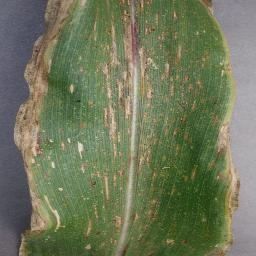Gray_Leaf_Spot: (20, 30, 60, 71), (13, 104, 48, 150), (225, 176, 244, 249), (113, 57, 134, 122), (21, 192, 51, 233), (18, 146, 44, 193), (216, 120, 236, 177), (222, 62, 242, 117), (17, 72, 49, 106), (103, 121, 125, 168), (43, 0, 72, 33), (139, 49, 156, 102), (114, 0, 151, 24), (120, 24, 147, 56), (212, 24, 230, 63), (137, 140, 153, 183), (13, 232, 37, 256), (139, 103, 154, 140), (163, 63, 180, 94), (164, 39, 183, 66), (142, 197, 163, 221), (197, 0, 220, 21), (50, 206, 66, 236), (201, 218, 218, 242), (108, 33, 120, 66), (97, 80, 113, 103), (195, 44, 207, 72), (114, 160, 128, 184), (149, 10, 164, 32), (178, 72, 193, 94), (90, 11, 99, 47), (93, 61, 111, 79), (98, 170, 107, 204), (73, 62, 92, 78), (203, 244, 227, 256), (195, 69, 206, 95), (155, 30, 167, 53), (113, 211, 126, 232), (45, 153, 57, 175), (78, 242, 98, 255), (76, 139, 88, 160), (205, 153, 217, 173), (55, 136, 69, 153), (127, 125, 132, 171), (84, 220, 93, 245), (147, 166, 164, 179), (47, 135, 56, 159), (162, 112, 170, 138), (195, 26, 207, 43), (137, 223, 148, 241), (167, 238, 183, 250), (122, 236, 132, 255), (88, 169, 99, 186), (184, 133, 197, 147), (91, 207, 105, 220), (166, 180, 178, 195), (70, 0, 86, 11), (172, 140, 181, 159), (172, 7, 182, 24), (171, 126, 183, 140), (81, 30, 93, 44), (54, 181, 66, 195), (105, 22, 120, 33), (106, 236, 117, 251), (104, 104, 112, 124), (180, 171, 191, 185), (78, 159, 87, 176), (164, 92, 173, 108), (189, 164, 197, 182), (77, 116, 86, 132), (82, 191, 93, 203), (211, 192, 222, 204), (211, 107, 219, 123), (130, 208, 138, 224), (66, 80, 74, 96), (96, 129, 102, 150), (169, 30, 181, 40), (43, 177, 56, 186), (183, 233, 189, 252), (94, 225, 101, 241), (103, 2, 114, 12), (64, 134, 74, 145), (181, 112, 187, 129), (104, 45, 111, 58), (191, 100, 197, 115), (214, 97, 223, 107), (55, 128, 66, 136), (87, 100, 95, 109), (76, 55, 87, 61), (149, 250, 159, 256), (90, 156, 94, 170), (180, 98, 185, 106), (77, 95, 80, 105)
